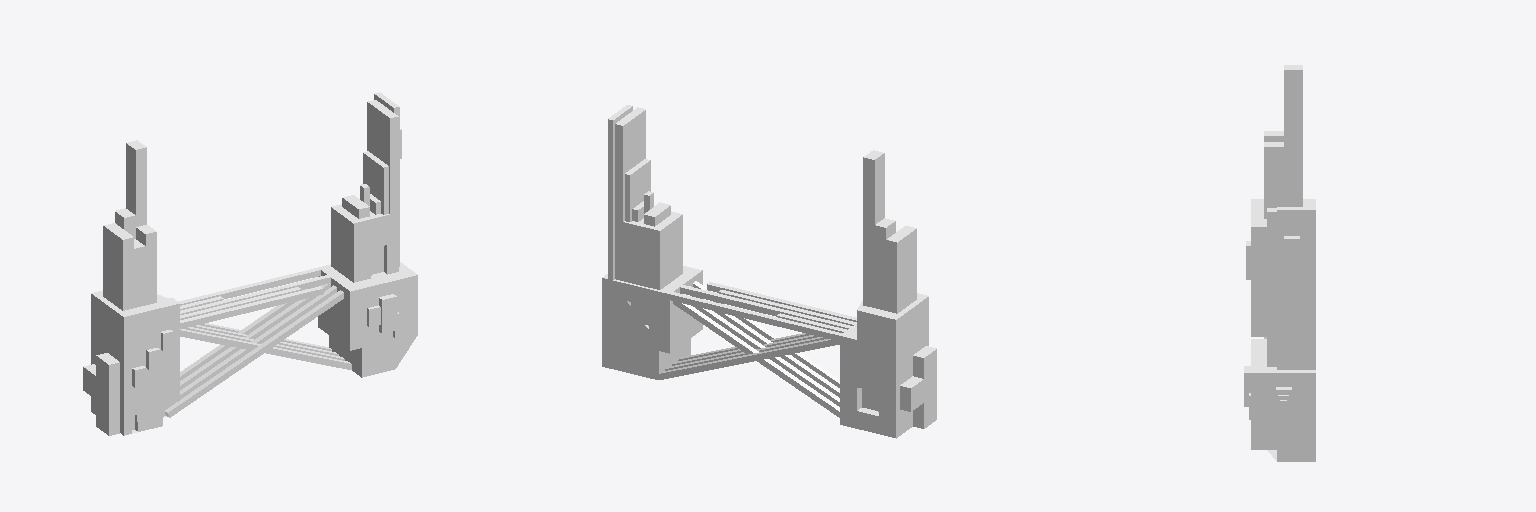
The model's file is architecture.obj.
The picture shows the model from 3 angles: view 1: azimuth 30°, elevation 25°; view 2: azimuth 150°, elevation 25°; view 3: azimuth 270°, elevation 25°; orthographic projection.
Visible parts, largest first — view 1: Cube, Cube.016_Cube.1027, Cube.020_Cube.1032, Cube.006_Cube.1011, Cube.022_Cube.1034, Cube.037_Cube.1053, Cube.007_Cube.1012, Cube.002_Cube.1007, Cube.036_Cube.1052, Cube.009_Cube.1015, Cube.033_Cube.1049, Cube.035_Cube.1051 (+8 smaller); view 2: Cube, Cube.016_Cube.1027, Cube.020_Cube.1032, Cube.002_Cube.1007, Cube.006_Cube.1011, Cube.022_Cube.1034, Cube.034_Cube.1050, Cube.011_Cube.1017, Cube.007_Cube.1012, Cube.030_Cube.1046, Cube.017_Cube.1028, Cube.008_Cube.1014 (+7 smaller); view 3: Cube.017_Cube.1028, Cube.016_Cube.1027, Cube.002_Cube.1007, Cube, Cube.005_Cube.1010, Cube.022_Cube.1034, Cube.020_Cube.1032, Cube.029_Cube.1044.
Part boxes in pixels (x1,y1,x2,y2): Cube: (83,290,179,435); Cube.016_Cube.1027: (318,262,417,377); Cube.020_Cube.1032: (331,204,398,282); Cube.006_Cube.1011: (103,223,133,310); Cube.022_Cube.1034: (367,100,398,214); Cube.037_Cube.1053: (165,290,343,417); Cube.007_Cube.1012: (96,353,119,435); Cube.002_Cube.1007: (126,140,146,226); Cube.036_Cube.1052: (171,285,336,405); Cube.009_Cube.1015: (180,286,323,328); Cube.033_Cube.1049: (180,329,351,369); Cube.035_Cube.1051: (180,283,330,389); Cube: (840,293,928,438); Cube.016_Cube.1027: (602,266,702,379); Cube.020_Cube.1032: (615,211,682,289); Cube.002_Cube.1007: (863,150,884,307); Cube.006_Cube.1011: (886,226,916,313); Cube.022_Cube.1034: (615,107,645,221); Cube.034_Cube.1050: (673,301,839,417); Cube.011_Cube.1017: (670,292,842,340); Cube.007_Cube.1012: (913,346,936,428); Cube.030_Cube.1046: (656,337,844,379); Cube.017_Cube.1028: (608,105,632,279); Cube.008_Cube.1014: (680,285,852,329); Cube.017_Cube.1028: (1277,207,1315,369); Cube.016_Cube.1027: (1251,339,1315,461); Cube.002_Cube.1007: (1284,65,1302,206); Cube: (1251,199,1315,336); Cube.005_Cube.1010: (1264,142,1283,218); Cube.022_Cube.1034: (1267,208,1276,307); Cube.020_Cube.1032: (1267,308,1276,366); Cube.029_Cube.1044: (1284,236,1299,268).
Size of the model in its own units: 11.16 by 9 by 2.23.